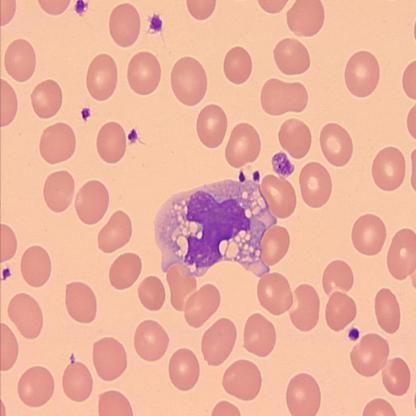Monocyte: (151, 174, 279, 280)
